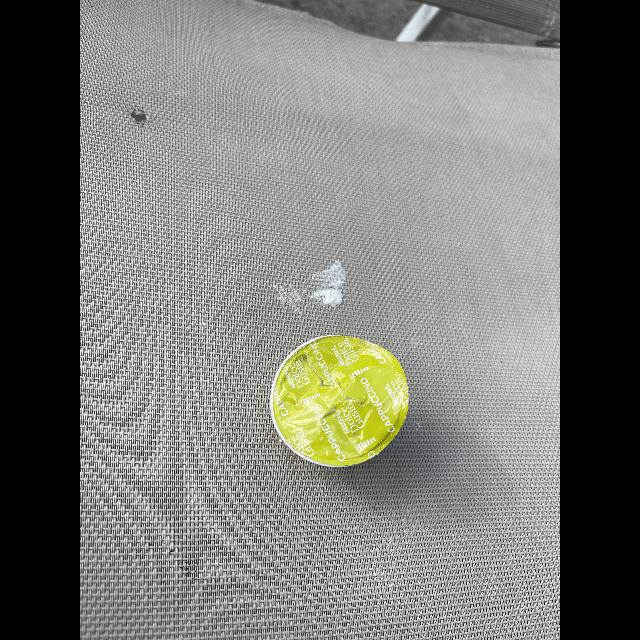damaged_capsule: (264, 332, 412, 472)
